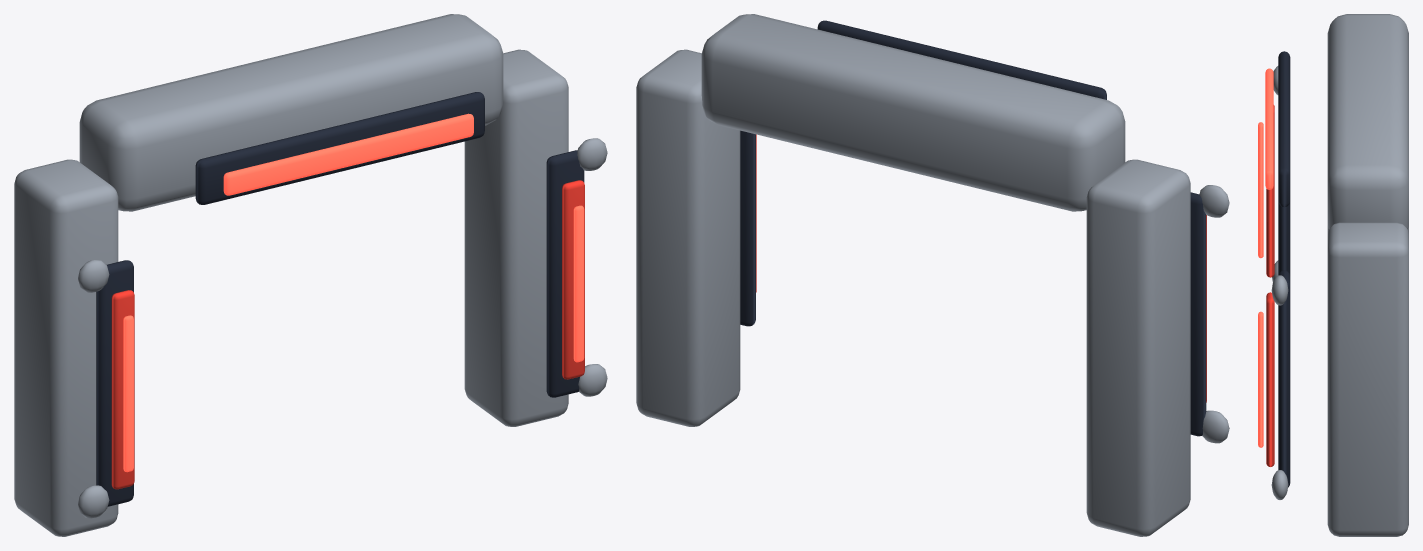
The model's file is PR3D_Gate_Shared.glb.
3 views of the same model, side by side, from view 1: azimuth 30°, elevation 25°; view 2: azimuth 150°, elevation 25°; view 3: azimuth 270°, elevation 25° (orthographic). The views are drawn at different scales.
Visible parts, largest first — view 1: Visual_Gate; view 2: Visual_Gate; view 3: Visual_Gate.
Boxes of the visible parts, x1,y1,x2,y2 form: Visual_Gate: (14,14,607,536); Visual_Gate: (636,14,1229,536); Visual_Gate: (1258,14,1408,536).
Bounding box in the file's own units: 1.1 × 0.79 × 0.316.
